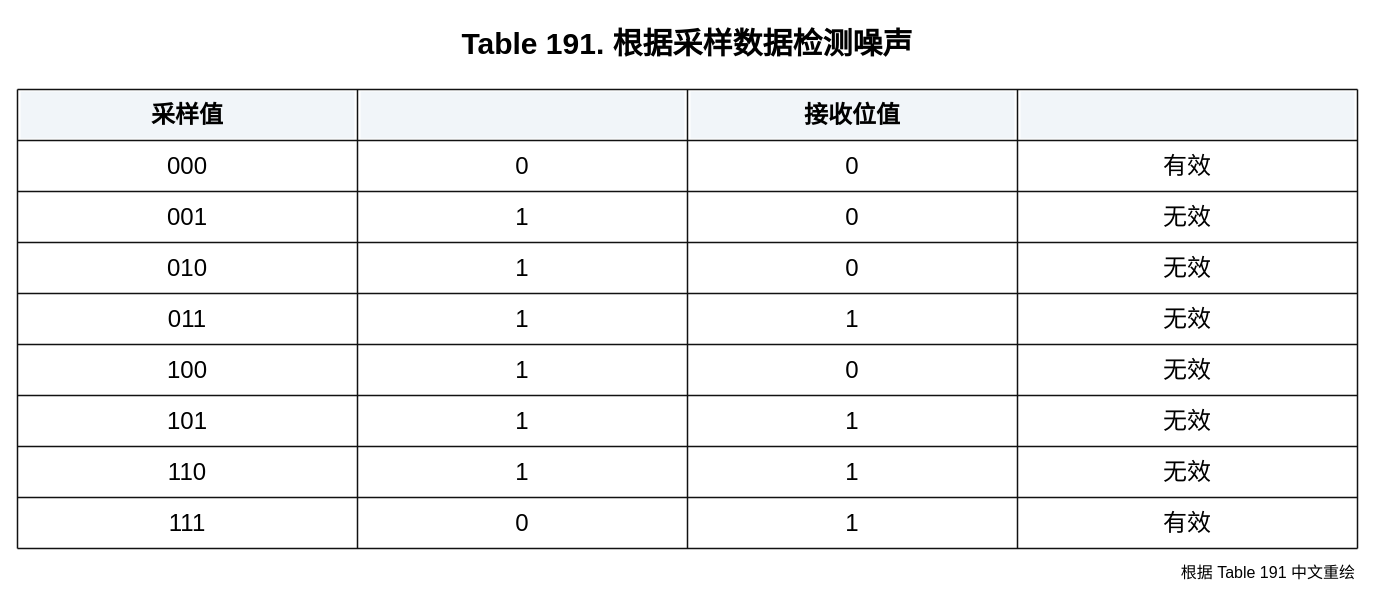
This 1377x602 diagram has some shape labels left out. Each missing label, with the centre of its shape:
NE 状态: (522,114)
数据有效性: (1187,114)
